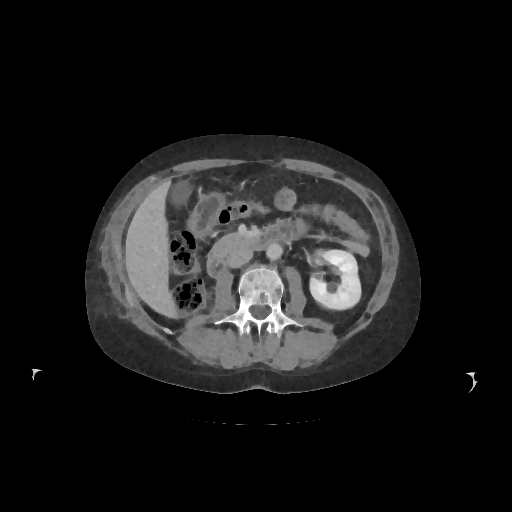Lesion: (324, 280, 342, 294)
